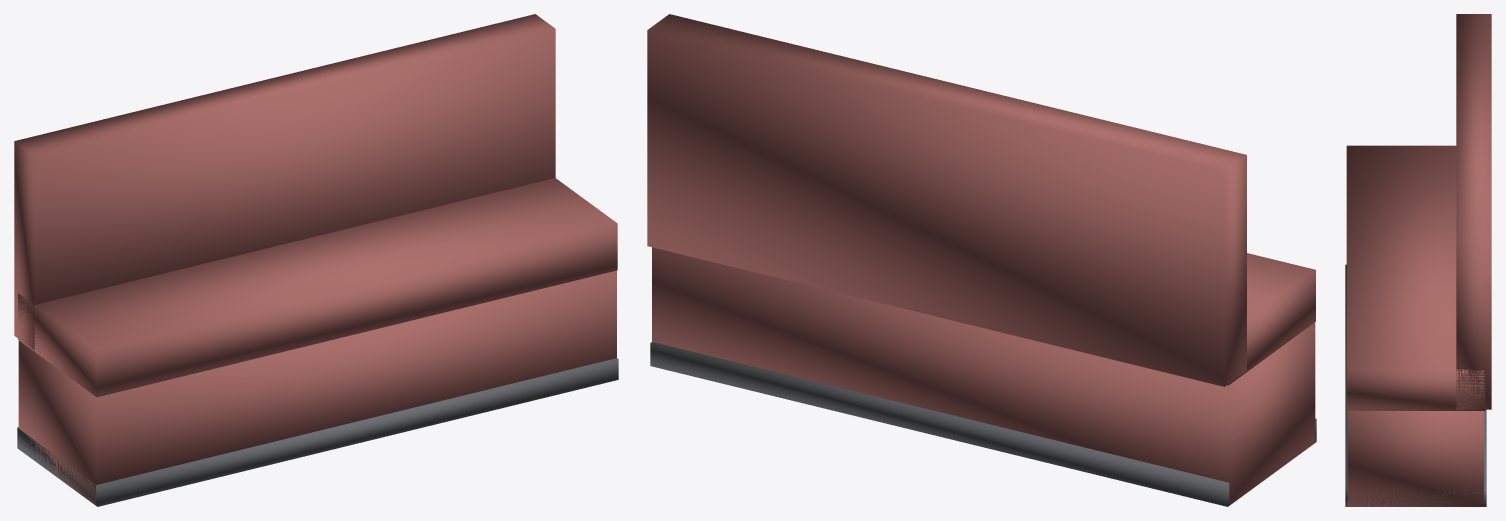
Rendered from diner_booth_double.glb.
3 renders of one model, left to right at view 1: azimuth 30°, elevation 25°; view 2: azimuth 150°, elevation 25°; view 3: azimuth 270°, elevation 25°, orthographic. The views are drawn at different scales.
Parts seen in each view (by area): view 1: world; view 2: world; view 3: world.
Boxes of the visible parts, left/top/right/bottom form: world: left=14, top=14, right=618, bottom=506; world: left=647, top=14, right=1316, bottom=506; world: left=1345, top=14, right=1491, bottom=506.
Size of the model in its own units: 2.1 by 1.17 by 0.58.
